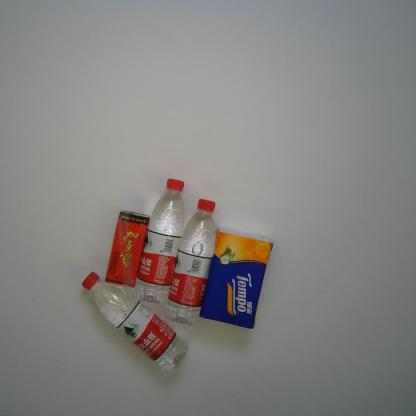Drink: (81, 270, 189, 374), (133, 177, 186, 306), (164, 198, 217, 326), (104, 210, 151, 289)
Tissue: (198, 227, 274, 330)
